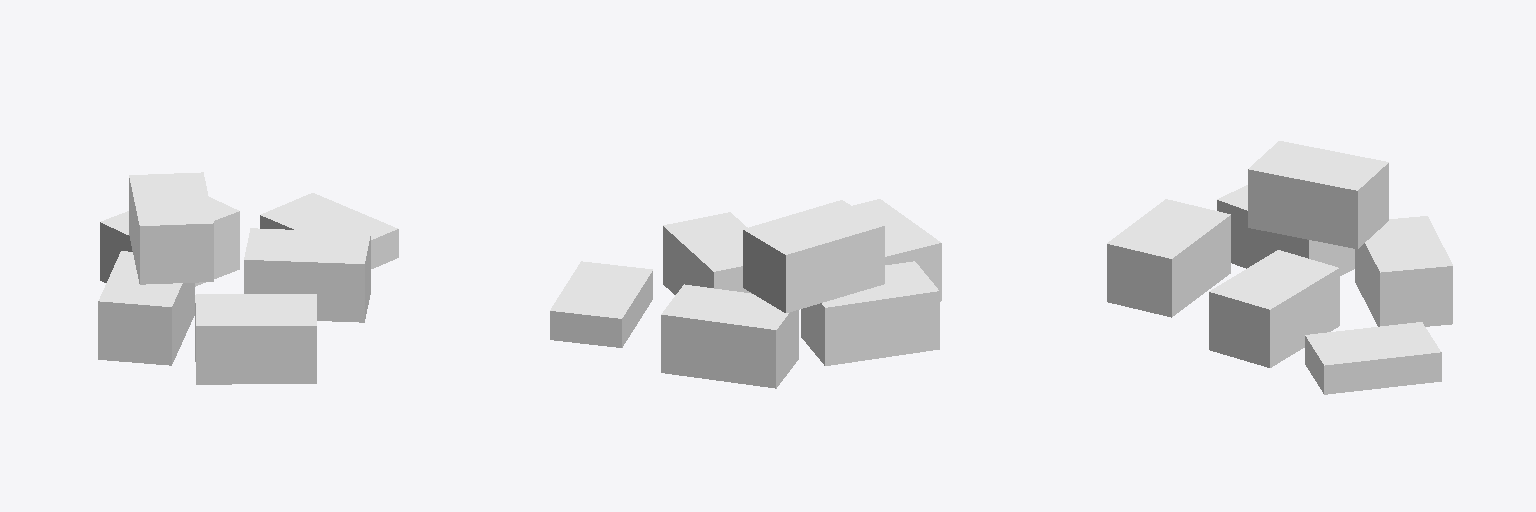
File: bricks.obj
3 renders of one model, left to right at view 1: azimuth 30°, elevation 25°; view 2: azimuth 150°, elevation 25°; view 3: azimuth 270°, elevation 25°, orthographic.
Parts seen in each view (by area): view 1: bricks; view 2: bricks; view 3: bricks.
Part boxes in pixels (x1,y1,x2,y2): bricks: (98,172,398,384); bricks: (550,199,941,388); bricks: (1107,141,1452,394).
Bounding box in the file's own units: 0.5075 × 0.1722 × 0.4627.